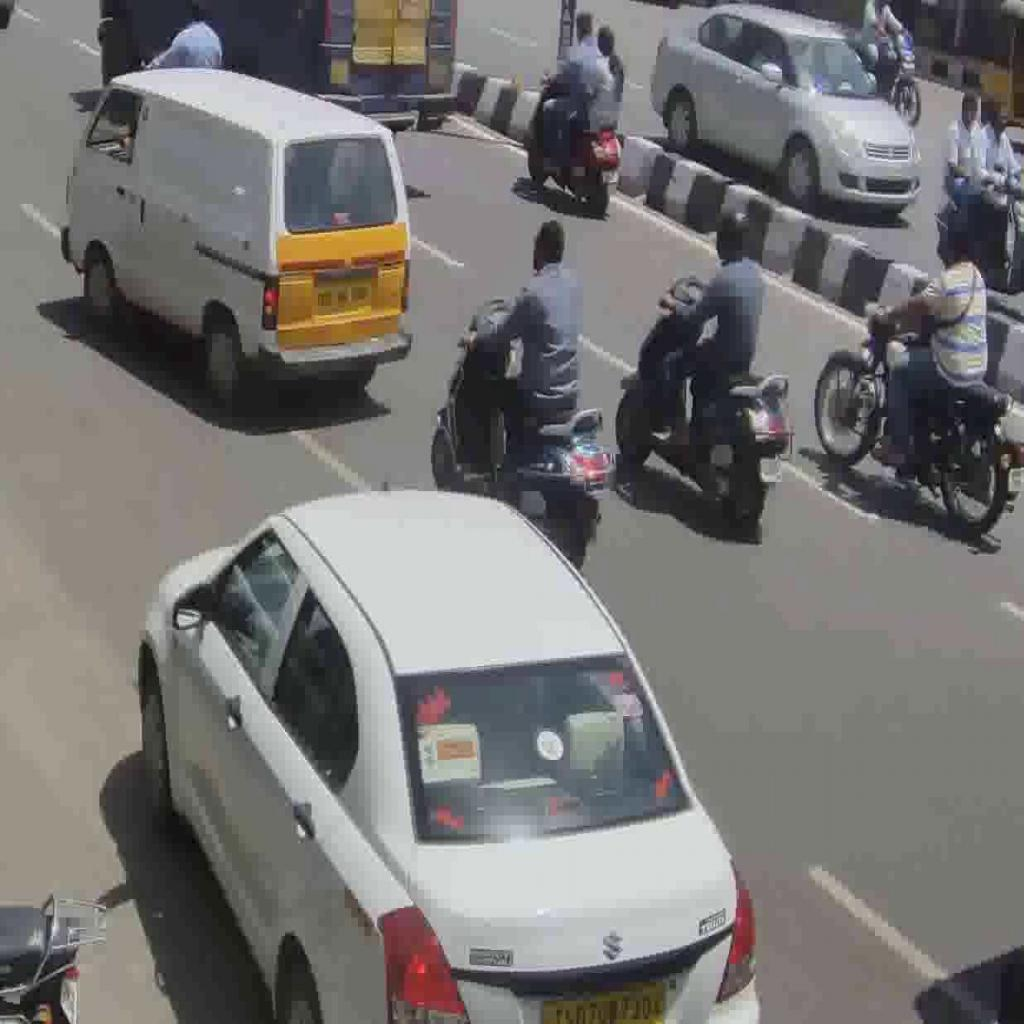helmet: (814, 299, 1022, 542), (428, 295, 612, 569), (613, 274, 795, 530), (524, 65, 623, 216)
